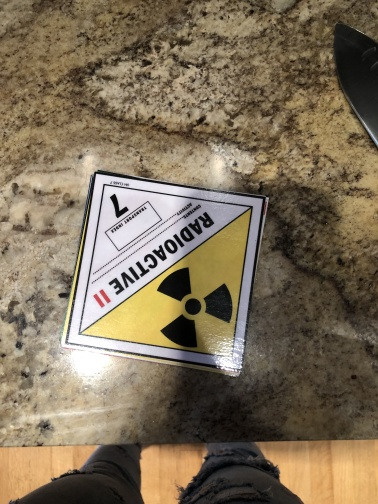Radioactive: (69, 173, 264, 369)
